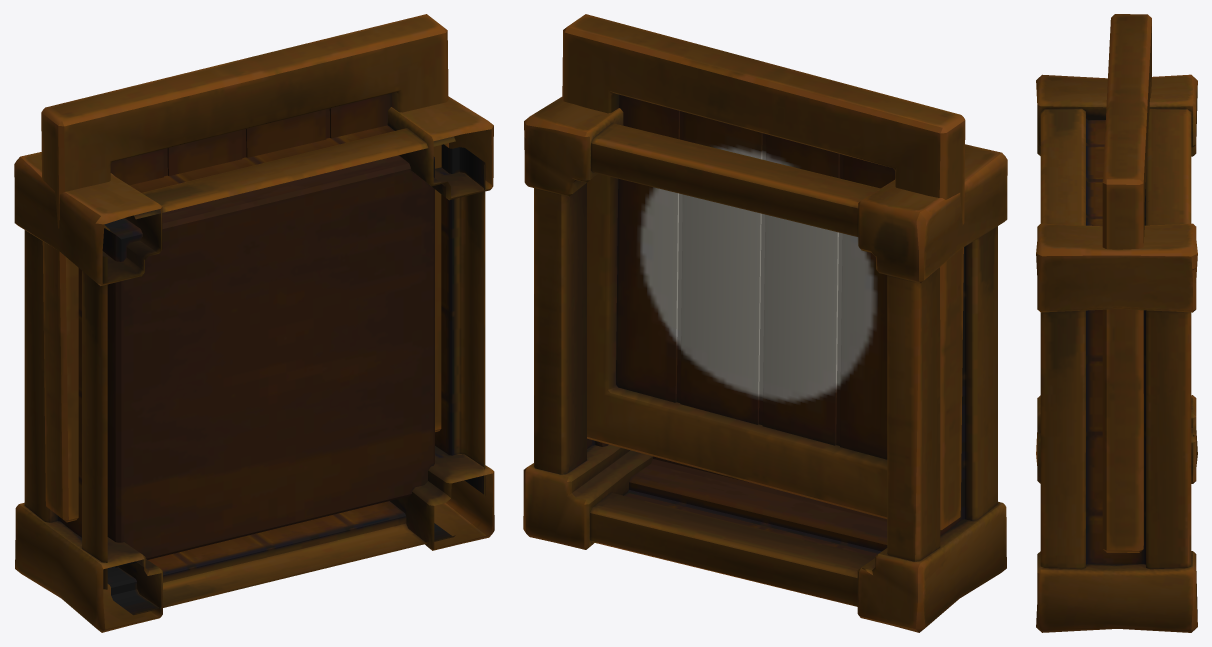
The model's file is CreateBox3.fbx.
3 views of the same model, side by side, from view 1: azimuth 30°, elevation 25°; view 2: azimuth 150°, elevation 25°; view 3: azimuth 270°, elevation 25° (orthographic). The views are drawn at different scales.
Parts seen in each view (by area): view 1: m_sk_crate_01_Body_0, m_sk_crate_01_Lid_0; view 2: m_sk_crate_01_Lid_0, m_sk_crate_01_Body_0; view 3: m_sk_crate_01_Body_0, m_sk_crate_01_Lid_0.
Boxes of the visible parts, x1,y1,x2,y2 form: m_sk_crate_01_Body_0: (14,96,494,632); m_sk_crate_01_Lid_0: (41,14,448,522); m_sk_crate_01_Lid_0: (562,14,965,530); m_sk_crate_01_Body_0: (523,97,1007,632); m_sk_crate_01_Body_0: (1036,74,1197,632); m_sk_crate_01_Lid_0: (1102,14,1151,552).
Size of the model in its own units: 1.04 by 0.3952 by 1.21.
